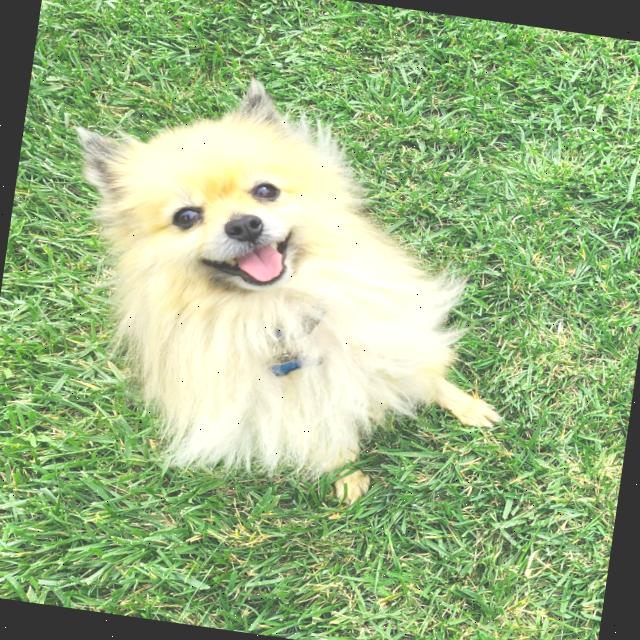pomeranian_dog: (31, 52, 430, 457)
